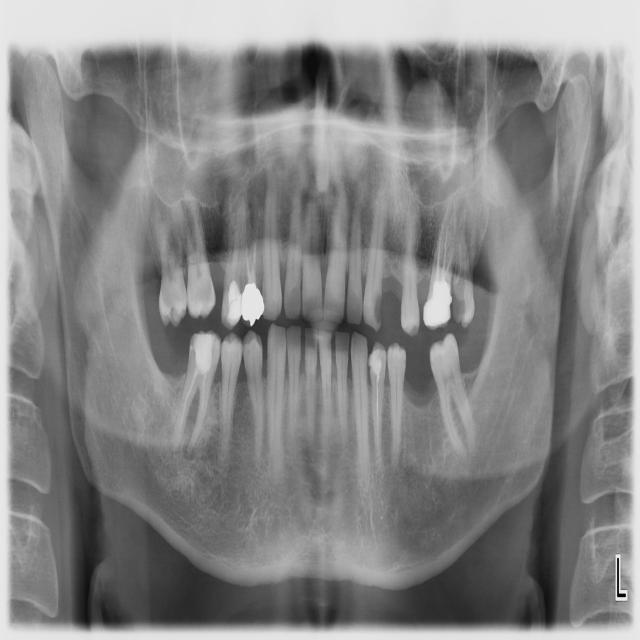mandibula: (23, 49, 592, 587)
